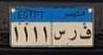1: (22, 25, 30, 43), (32, 25, 39, 45), (42, 25, 49, 44), (13, 25, 19, 44)
faa: (79, 25, 92, 41)
raa: (67, 28, 78, 44)
seen: (54, 27, 66, 43)
